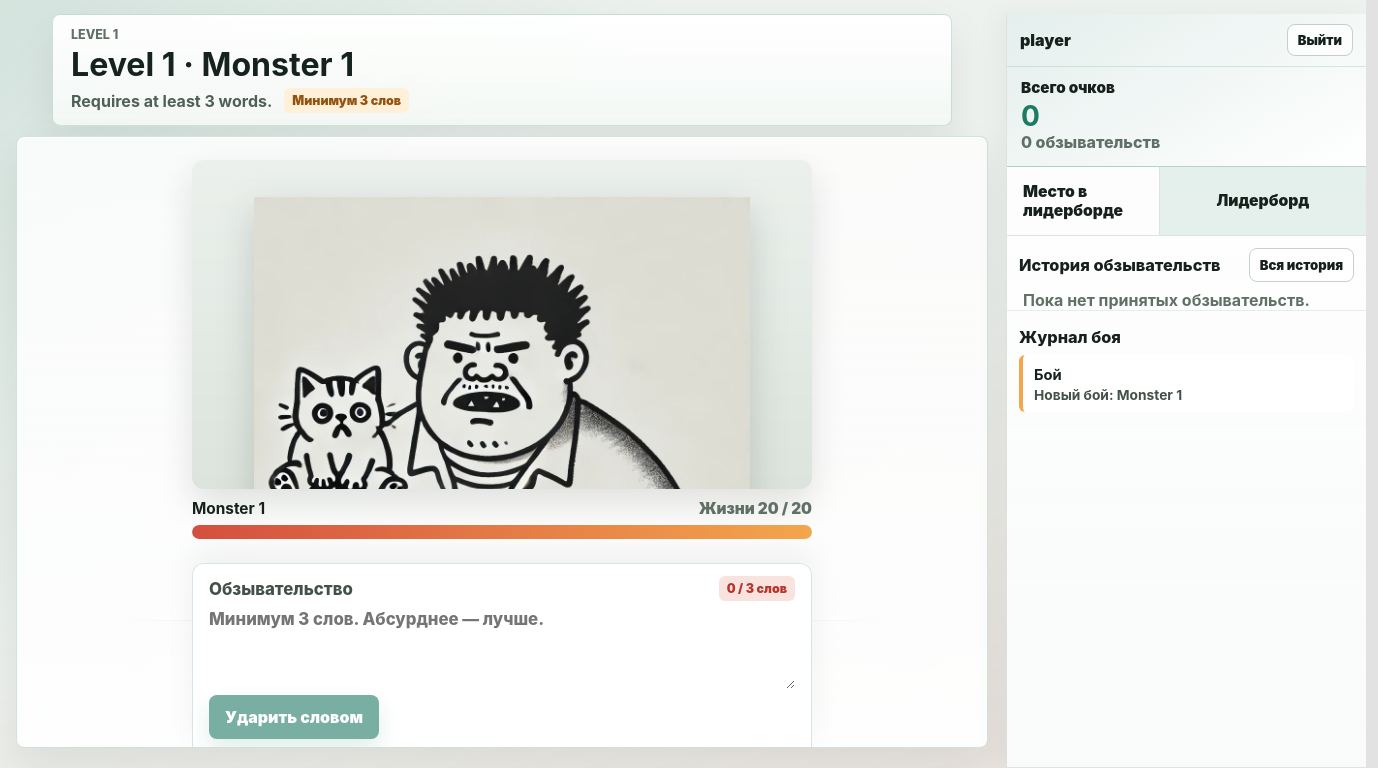
Test case: App API contract behavior › shows word counter and keeps submit disabled until text is present
Expected: the submit button is disabled, [209,695,379,739]
In the text box labelled "Обзывательство 0 / 3 слов": (502, 649) [209,609,795,689], type "один два три"
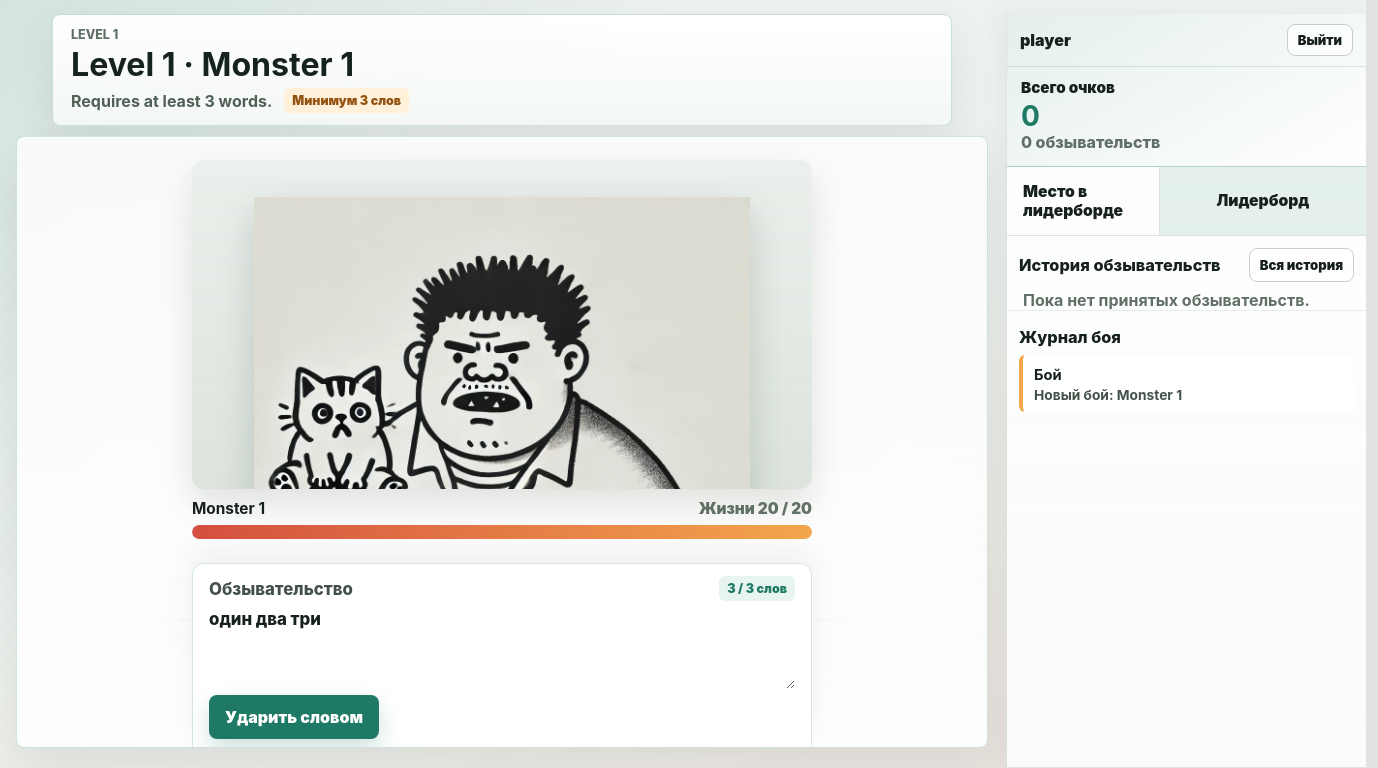
Result: the text "3 / 3 слов" is shown at [719,576,795,601]
Result: the submit button is enabled at [209,695,379,739]
